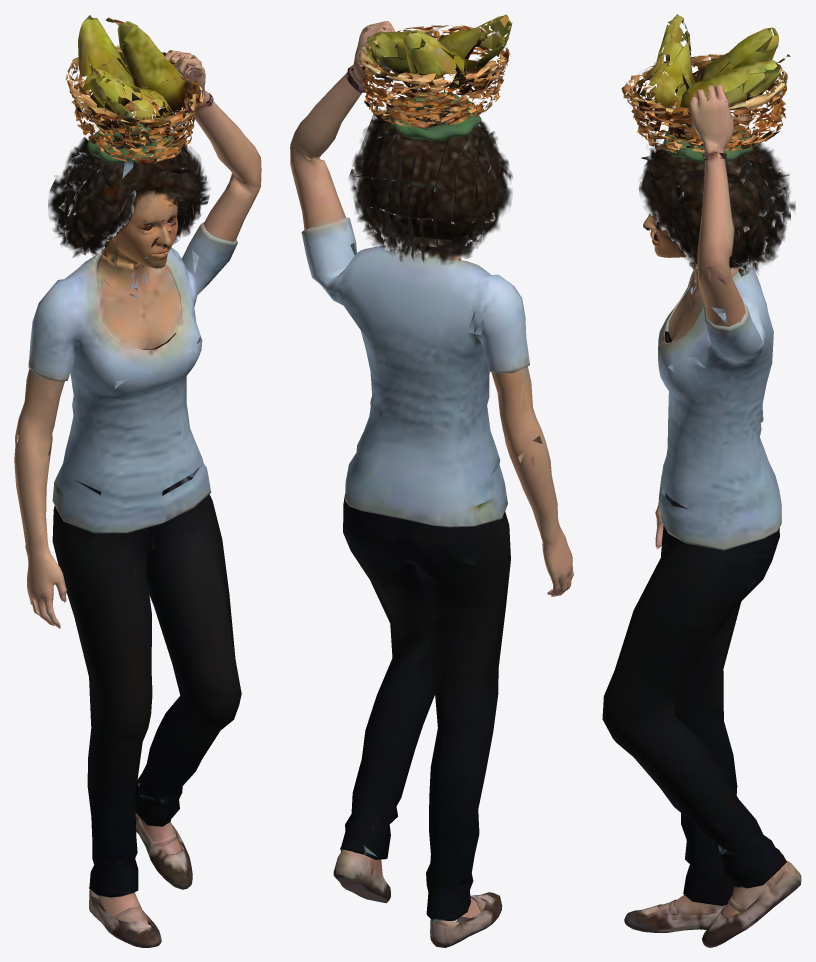
3 renders of one model, left to right at view 1: azimuth 30°, elevation 25°; view 2: azimuth 150°, elevation 25°; view 3: azimuth 270°, elevation 25°, orthographic. The views are drawn at different scales.
Parts seen in each view (by area): view 1: load20261018c_w005; view 2: load20261018c_w005; view 3: load20261018c_w005.
Boxes of the visible parts, <box> form: load20261018c_w005: <box>14,15,261,947</box>; load20261018c_w005: <box>290,14,573,947</box>; load20261018c_w005: <box>602,14,801,947</box>.
Bounding box in the file's own units: 0.5159 × 1.76 × 0.3524.
Materials: 1 (1 with a texture image).
